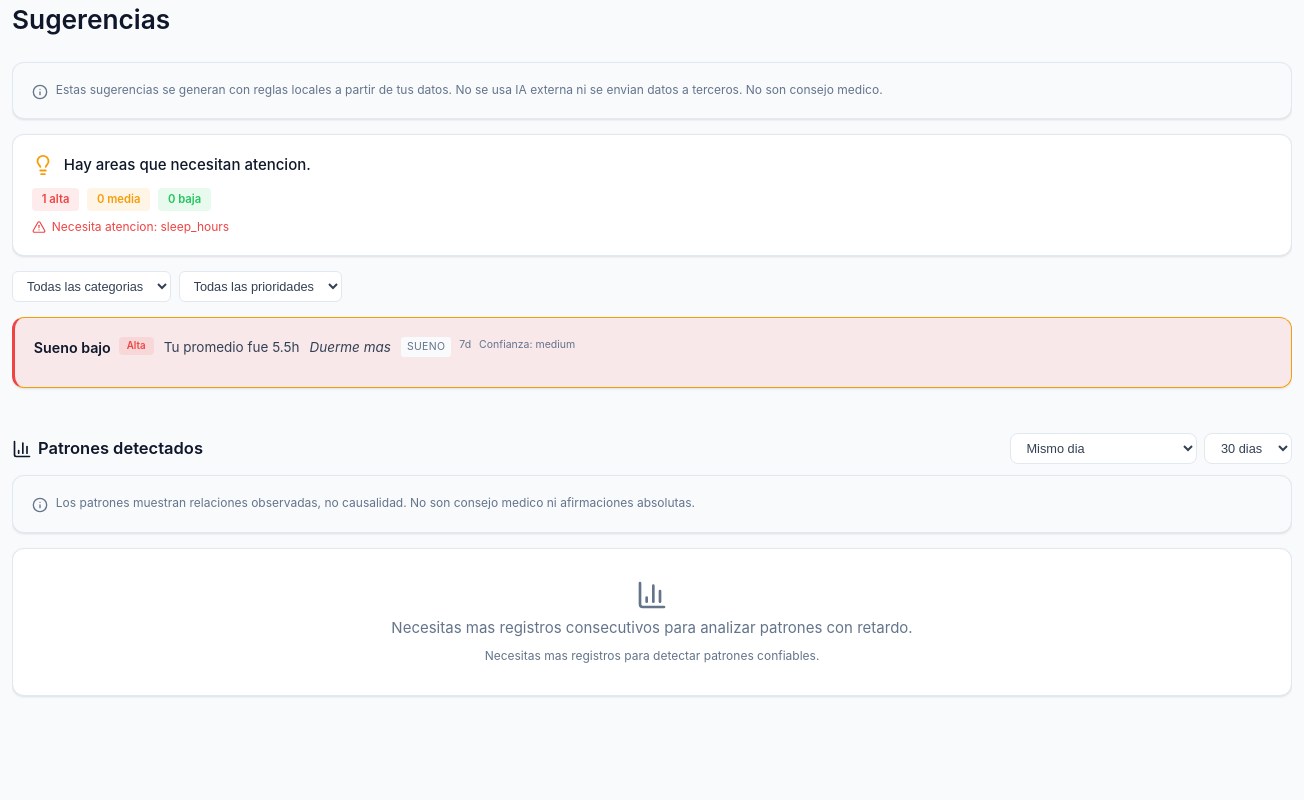
Test: Correlations section › shows insufficient data hint for lag=1
This screenshot has width=1304, height=800.
Select "Dia anterior → dia actual" in the dropdown with test id "lag-selector". click: (1103, 448)
box: x1=1010 y1=433 x2=1196 y2=464
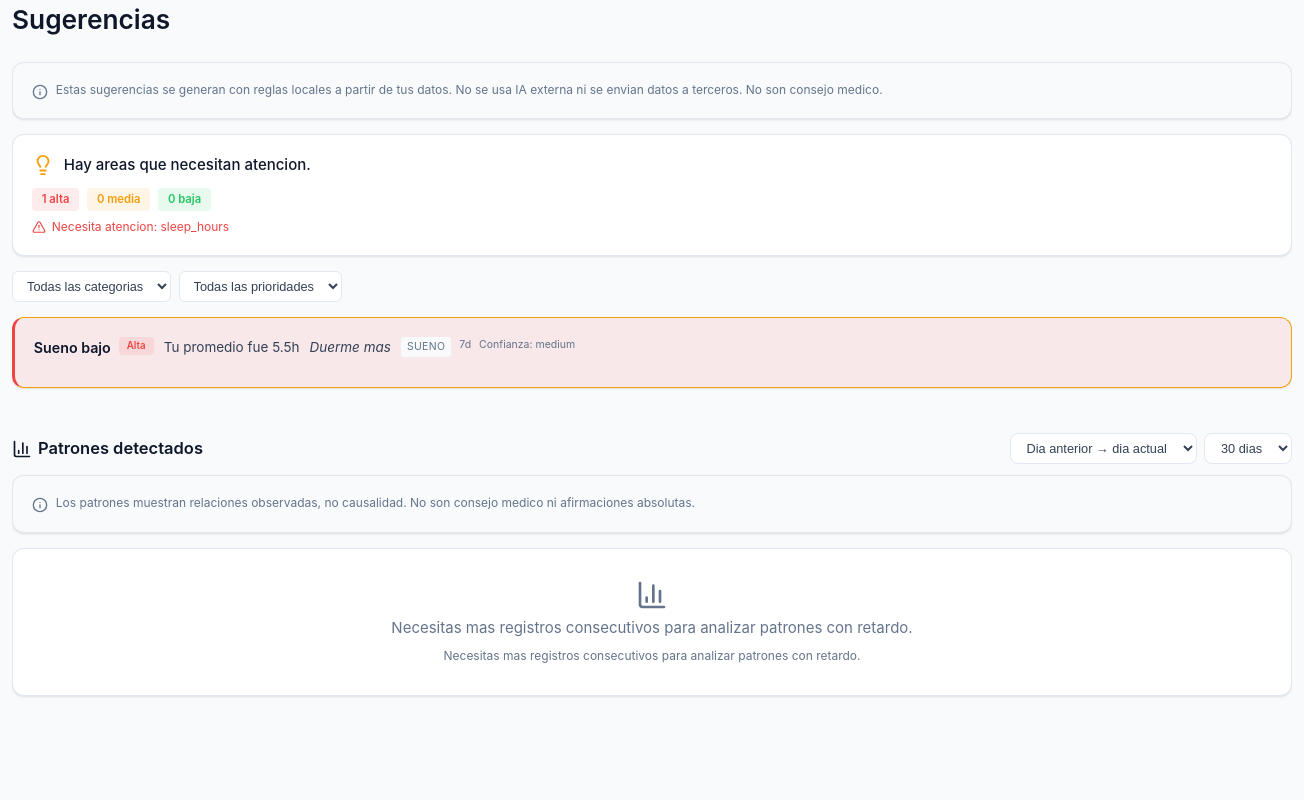
Result: the text with test id "lag-insufficient" shows "registros consecutivos" at x1=444 y1=648 x2=860 y2=663
